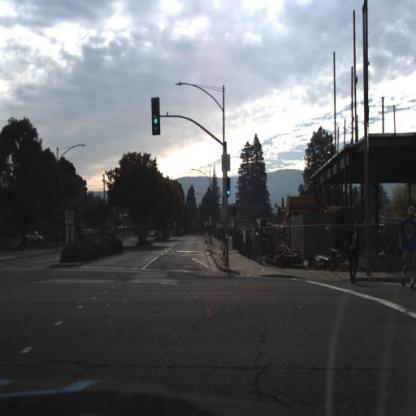car: (26, 229, 46, 243), (148, 226, 159, 240)
pedestrian: (399, 206, 416, 293), (344, 218, 362, 288)
trafficLight-Green: (150, 97, 161, 137), (226, 178, 232, 196)
